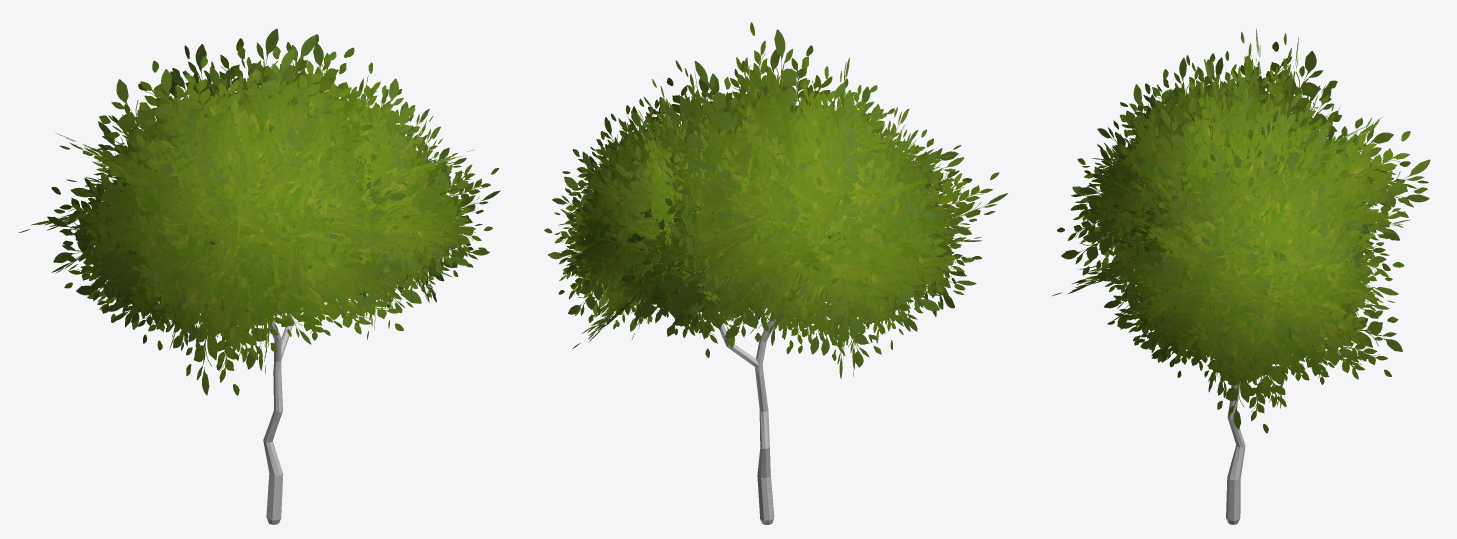
Rendered from tree_small.FBX.
3 renders of one model, left to right at view 1: azimuth 30°, elevation 25°; view 2: azimuth 150°, elevation 25°; view 3: azimuth 270°, elevation 25°, orthographic. The views are drawn at different scales.
Parts seen in each view (by area): view 1: leaves001, tree003; view 2: leaves001, tree003; view 3: leaves001, tree003.
Boxes of the visible parts, x1=… form: leaves001: x1=18, y1=28, x2=500, y2=395; tree003: x1=263, y1=229, x2=296, y2=524; leaves001: x1=544, y1=22, x2=1007, y2=378; tree003: x1=718, y1=223, x2=802, y2=524; leaves001: x1=1051, y1=28, x2=1430, y2=433; tree003: x1=1226, y1=357, x2=1254, y2=524.
Size of the model in its own units: 34.32 by 37.31 by 27.79.
